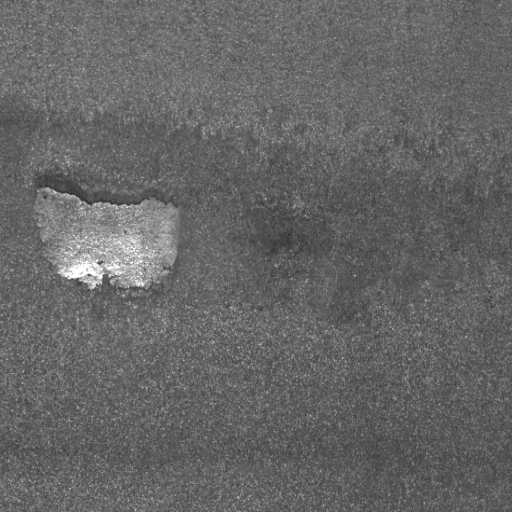aokeng: (29, 182, 183, 294)
